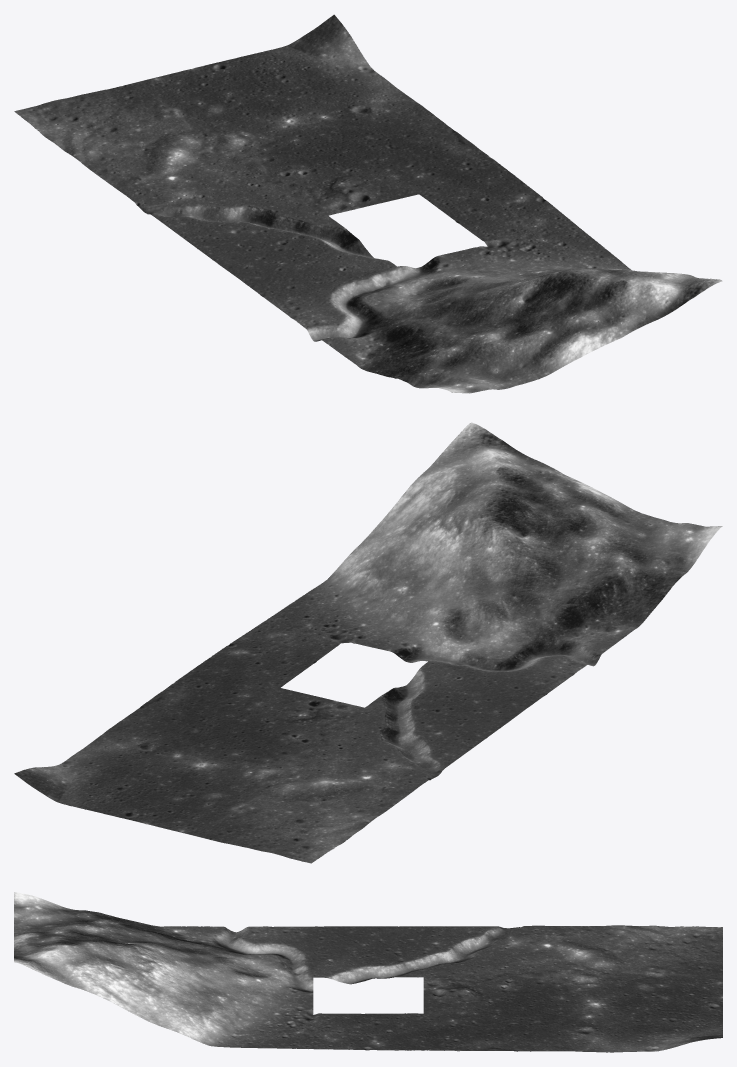
File: far-high.glb
The picture shows the model from 3 angles, top to bottom: view 1: azimuth 30°, elevation 25°; view 2: azimuth 150°, elevation 25°; view 3: azimuth 270°, elevation 25°; orthographic projection. The views are drawn at different scales.
Visible parts, largest first — view 1: far; view 2: far; view 3: far.
Part boxes in pixels (x1,y1,x2,y2): far: [14, 14, 722, 393]; far: [14, 422, 722, 863]; far: [14, 892, 722, 1052].
Size of the model in its own units: 12699 by 3602 by 30000.
Materials: 1 (1 with a texture image).
